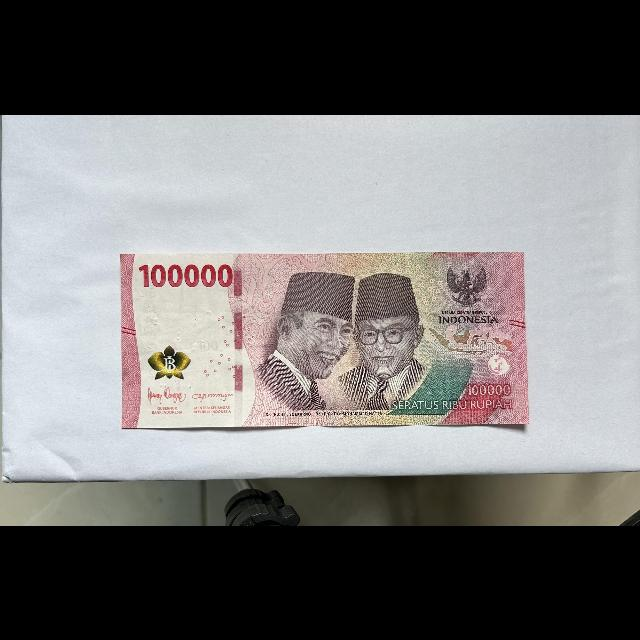Asli-100k: (119, 250, 532, 430)
Tinta-Asli-100k: (148, 343, 192, 380)
